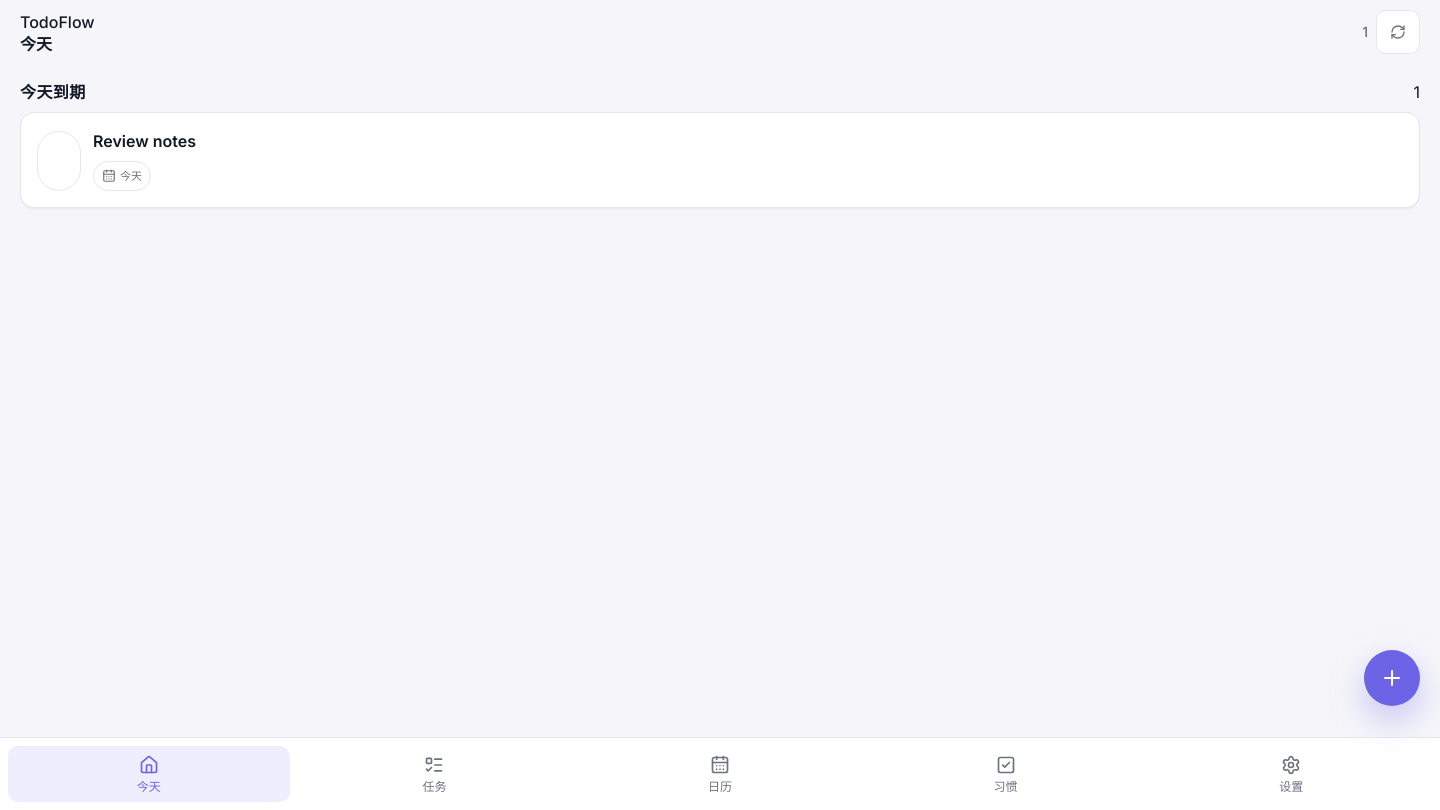
it: Mobile task experience › toggles completion immediately from the mobile task card
The width and height of the screenshot is (1440, 810).
Click the button named "完成任务" at (59, 161), box [37, 131, 81, 191]
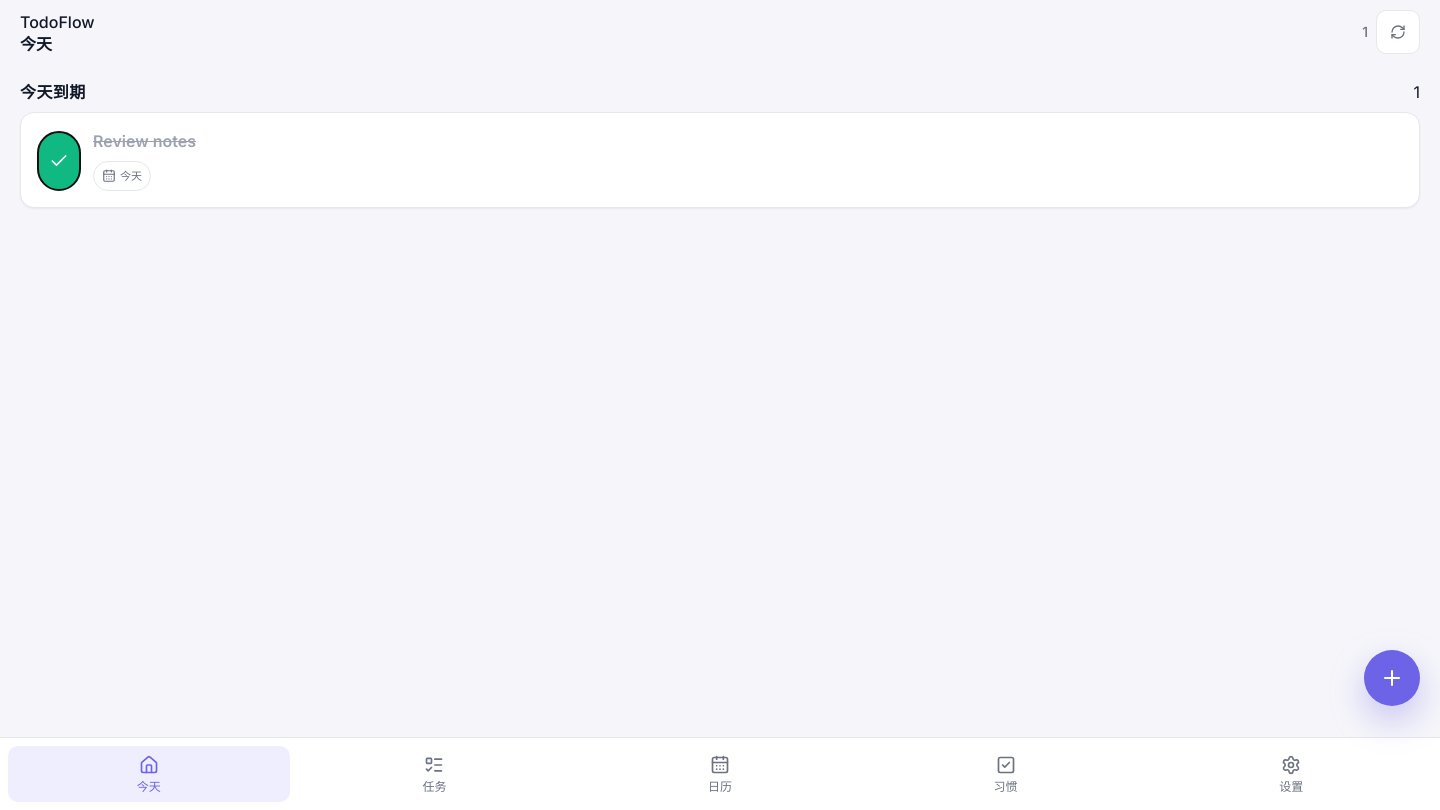
Expected: the button named "标记为未完成" is shown, [37, 131, 81, 191]
